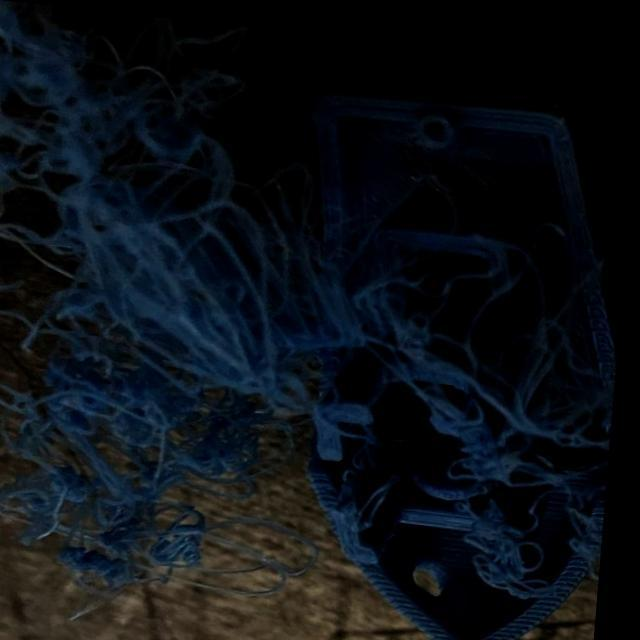spaghetti: (106, 188, 332, 381), (1, 10, 239, 192), (15, 366, 208, 585), (465, 307, 606, 467), (369, 258, 453, 373), (203, 383, 293, 482), (473, 500, 574, 588)
